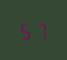five: (19, 20, 32, 40)
seven: (33, 20, 46, 39)
